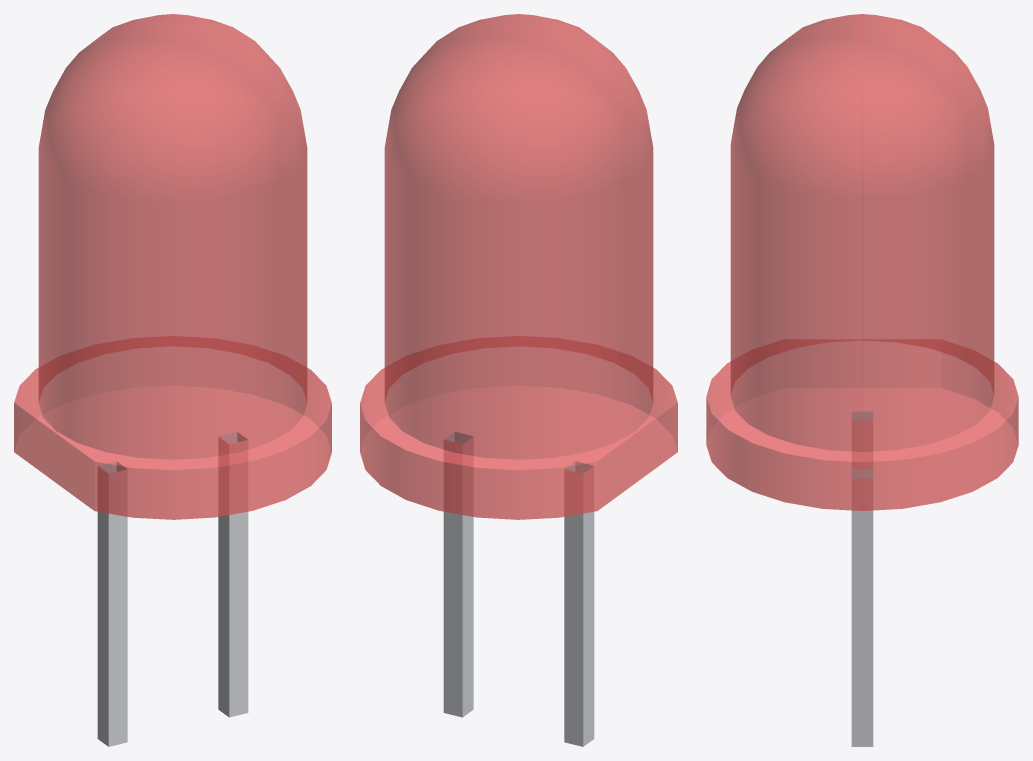
Rendered from led5mm.glb.
3 views of the same model, side by side, from view 1: azimuth 30°, elevation 25°; view 2: azimuth 150°, elevation 25°; view 3: azimuth 270°, elevation 25° (orthographic).
Visible parts, largest first — view 1: Lente_LED_1, Pines_0; view 2: Lente_LED_1, Pines_0; view 3: Lente_LED_1, Pines_0.
Boxes of the visible parts, bbox=[...] form: Lente_LED_1: bbox=[14, 14, 331, 519]; Pines_0: bbox=[97, 432, 248, 746]; Lente_LED_1: bbox=[360, 14, 677, 519]; Pines_0: bbox=[443, 432, 594, 746]; Lente_LED_1: bbox=[706, 14, 1018, 510]; Pines_0: bbox=[851, 411, 873, 746].
Bounding box in the file's own units: 5.4 × 14.1 × 5.8.
